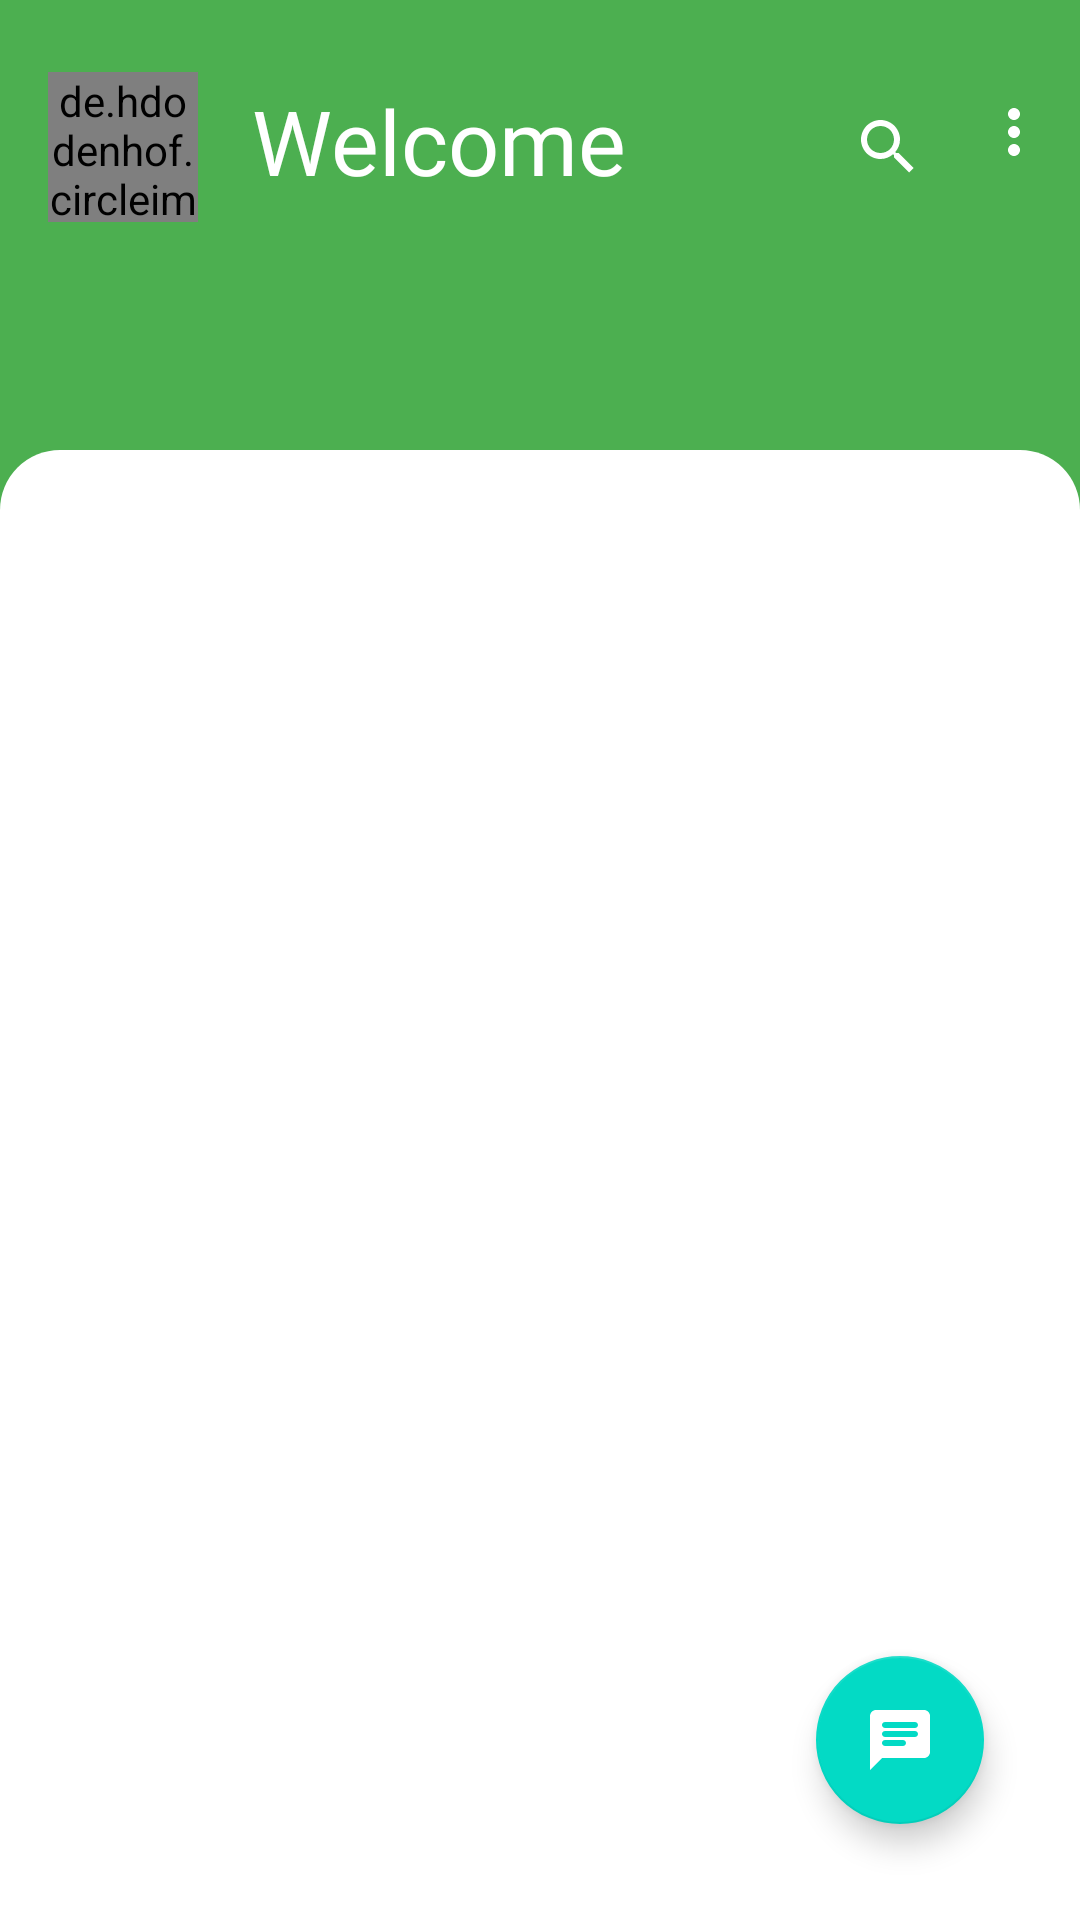

Point at icon controls on the screen. Image size 1080×1920, points as (x=x, y=y).
chat: (x=900, y=1740)
